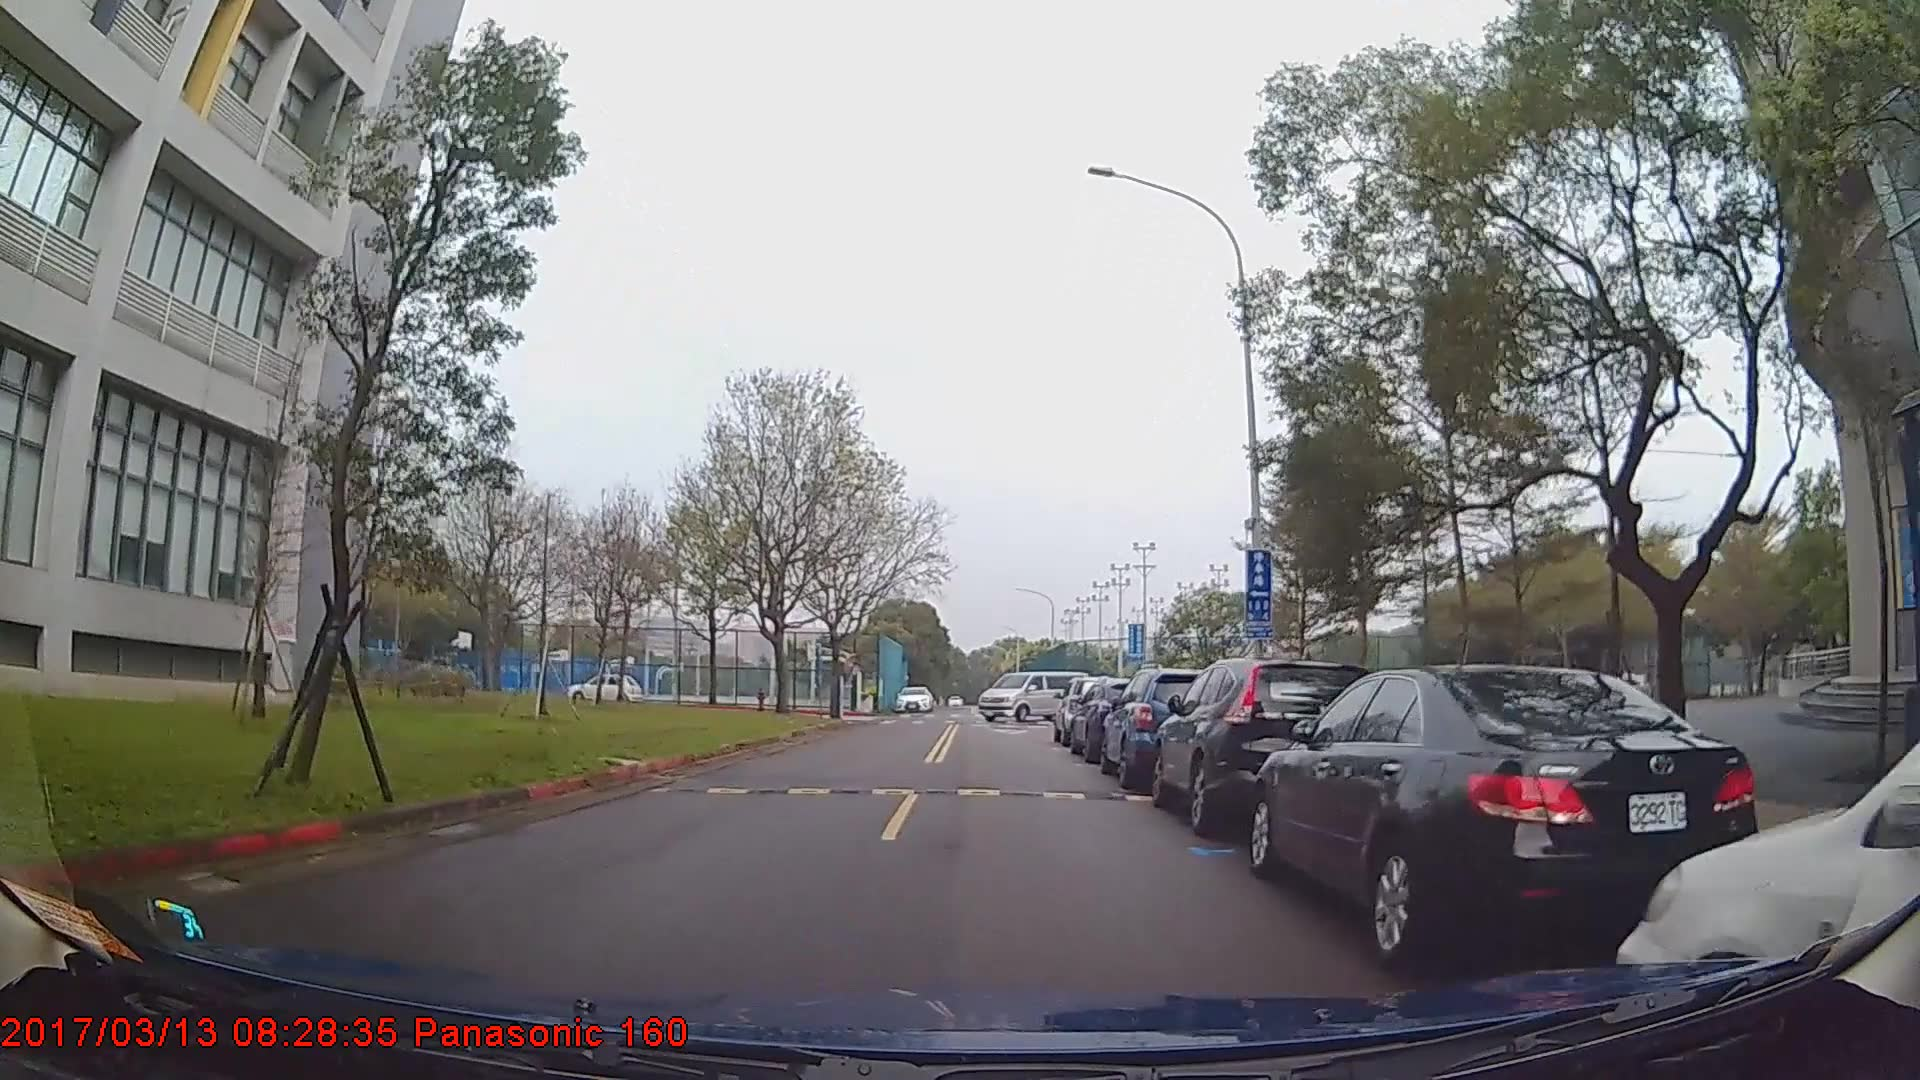vehicle: (1250, 659, 1764, 977), (1615, 735, 1917, 1052), (1149, 653, 1378, 833), (1100, 665, 1222, 787), (978, 669, 1091, 720), (564, 671, 644, 703), (893, 684, 934, 712)
